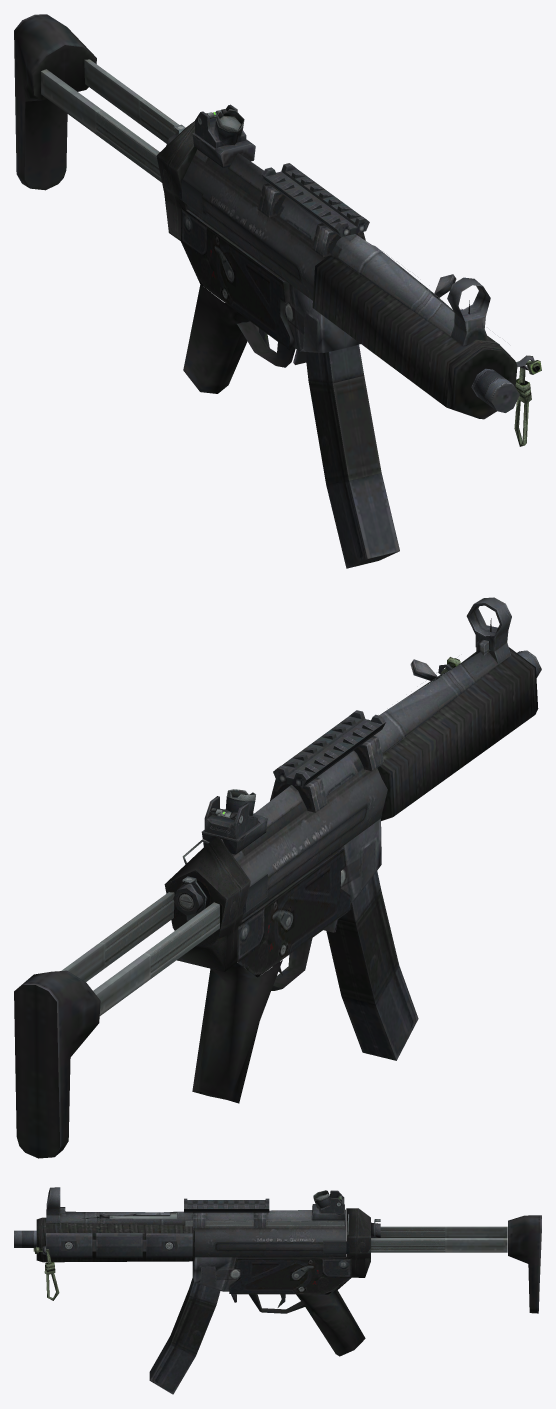
File: SMG_MP5_SD_Body_LOD_(000697).glb
3 renders of one model, top to bottom at view 1: azimuth 30°, elevation 25°; view 2: azimuth 150°, elevation 25°; view 3: azimuth 270°, elevation 25°, orthographic. The views are drawn at different scales.
Parts seen in each view (by area): view 1: pw_1052_MP5SD_qtb_LOD1; view 2: pw_1052_MP5SD_qtb_LOD1; view 3: pw_1052_MP5SD_qtb_LOD1.
Boxes of the visible parts, x1,y1,x2,y2 form: pw_1052_MP5SD_qtb_LOD1: (14, 14, 541, 568); pw_1052_MP5SD_qtb_LOD1: (14, 597, 541, 1158); pw_1052_MP5SD_qtb_LOD1: (14, 1187, 541, 1394).
Size of the model in its own units: 0.087 by 0.3331 by 0.7876.
Materials: 1 (1 with a texture image).
